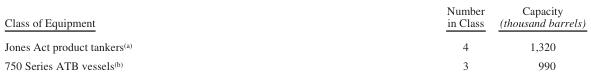table: (3, 3, 584, 71)
table column: (3, 3, 288, 71), (288, 3, 491, 71), (491, 3, 584, 71)
table column header: (3, 3, 584, 33)
table row: (3, 3, 584, 33), (3, 33, 584, 55), (3, 55, 584, 71)
